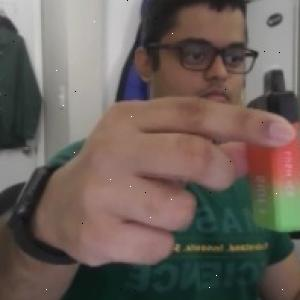Swift-E-Ciggirate: (244, 64, 300, 246)
